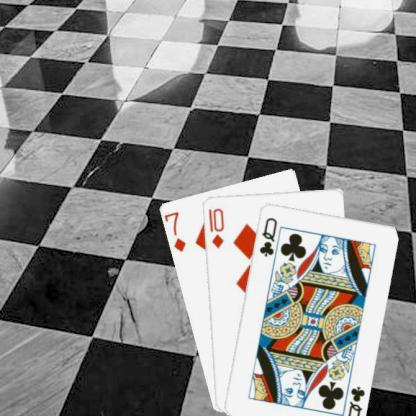10D: (205, 205, 225, 249)
7D: (163, 209, 187, 253)
QC: (256, 214, 278, 258), (344, 383, 366, 416)
